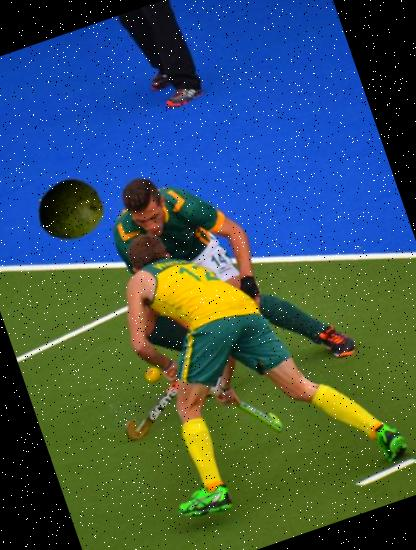Avocado: (30, 166, 114, 250)
